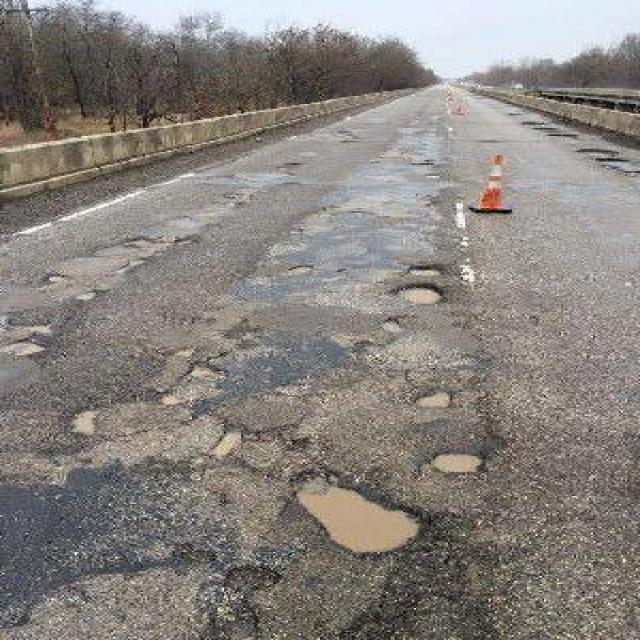pothole: (278, 456, 430, 576), (292, 467, 429, 555), (203, 560, 285, 640), (211, 564, 286, 639), (89, 222, 199, 270), (103, 234, 197, 258), (209, 419, 250, 463), (388, 283, 449, 310), (429, 448, 489, 475), (428, 449, 486, 474), (393, 282, 448, 308), (401, 258, 452, 285), (71, 402, 105, 442), (209, 426, 246, 460), (13, 310, 52, 341), (185, 357, 218, 390), (69, 407, 103, 439), (414, 387, 457, 408), (2, 335, 45, 356), (409, 387, 456, 405), (2, 338, 51, 354), (188, 360, 228, 378), (407, 259, 446, 277), (41, 270, 75, 290), (379, 314, 404, 339), (285, 263, 318, 279), (286, 261, 318, 276), (161, 392, 185, 411), (43, 271, 71, 287), (17, 322, 56, 333), (75, 288, 103, 303), (69, 290, 101, 303), (161, 389, 186, 405)
